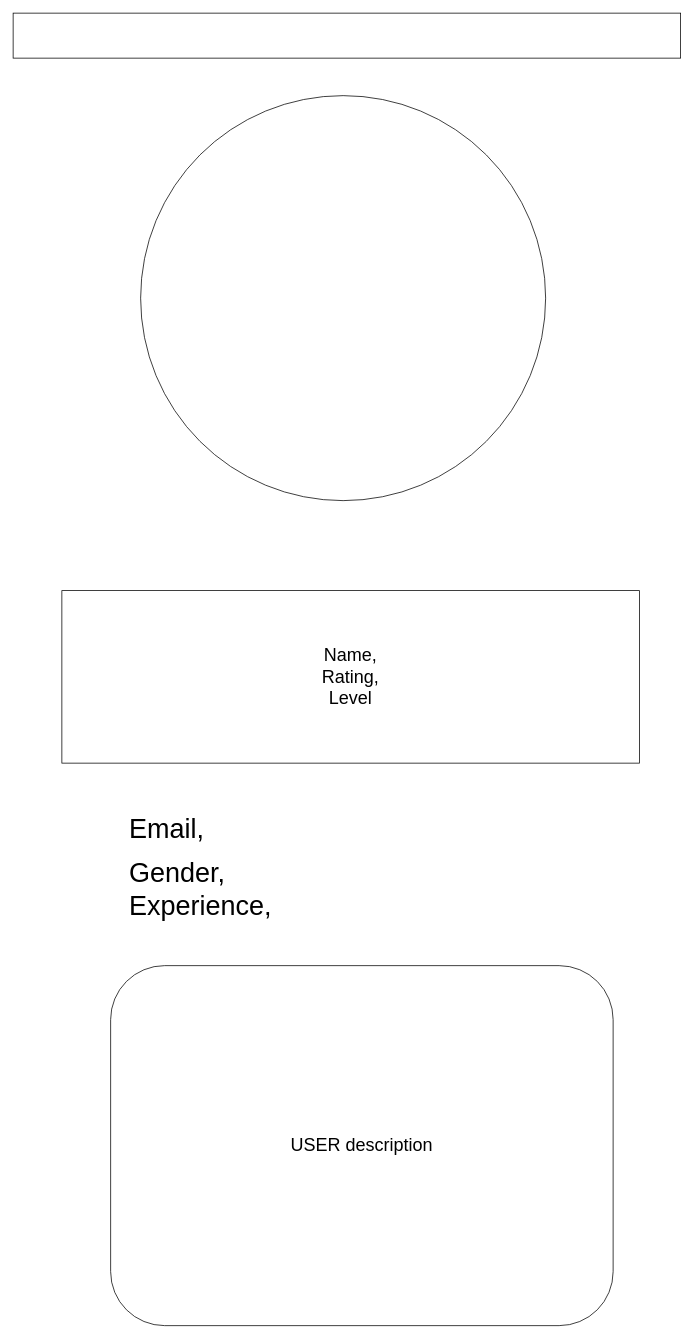
Image size: 694x1339. Some labels were removed from this diagram. The shapes that lost their labels are listed below. From the top down, each one's centre as x and y in pixels, then its label:
At [346,35]: "NAVBAR".
At [343,298]: "Profile Picture".
